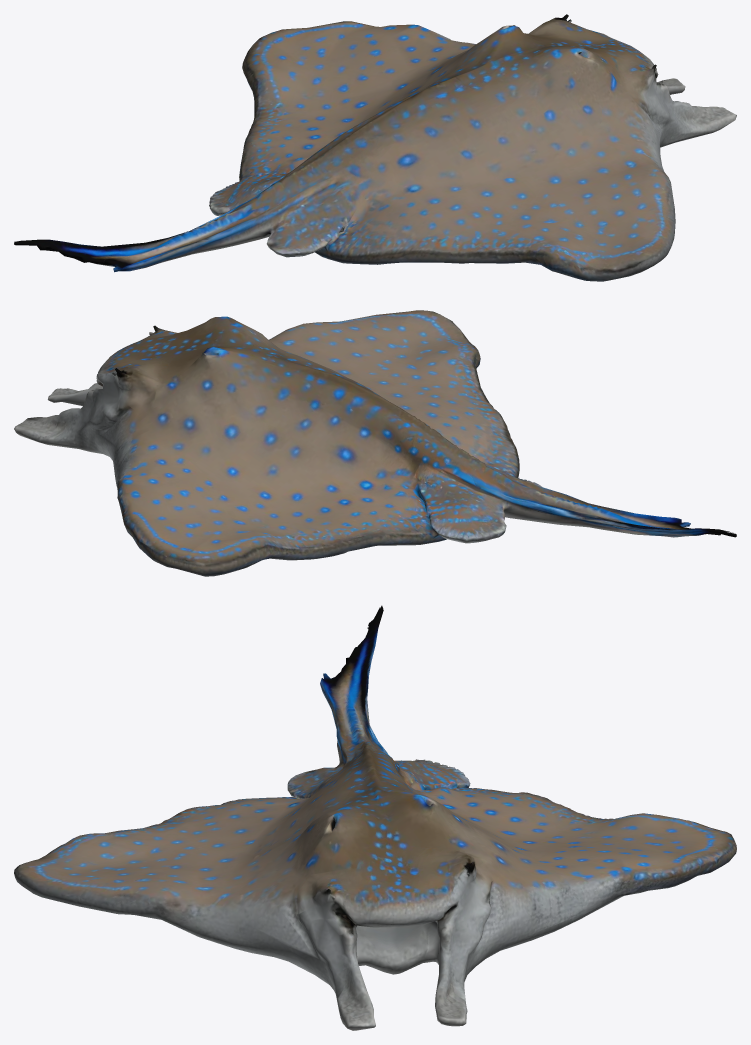
Rendered from bluespotray.glb.
The picture shows the model from 3 angles, top to bottom: view 1: azimuth 30°, elevation 25°; view 2: azimuth 150°, elevation 25°; view 3: azimuth 270°, elevation 25°; orthographic projection. The views are drawn at different scales.
Visible parts, largest first — view 1: tripo_node_133a4506-7136-434e-9e89-9b2abd30b978; view 2: tripo_node_133a4506-7136-434e-9e89-9b2abd30b978; view 3: tripo_node_133a4506-7136-434e-9e89-9b2abd30b978.
Part boxes in pixels (x1,y1,x2,y2): tripo_node_133a4506-7136-434e-9e89-9b2abd30b978: (14, 14, 736, 281); tripo_node_133a4506-7136-434e-9e89-9b2abd30b978: (14, 310, 736, 576); tripo_node_133a4506-7136-434e-9e89-9b2abd30b978: (14, 605, 736, 1030).
Bounding box in the file's own units: 0.9999 × 0.1775 × 0.7993.
1 material, 1 textured.
